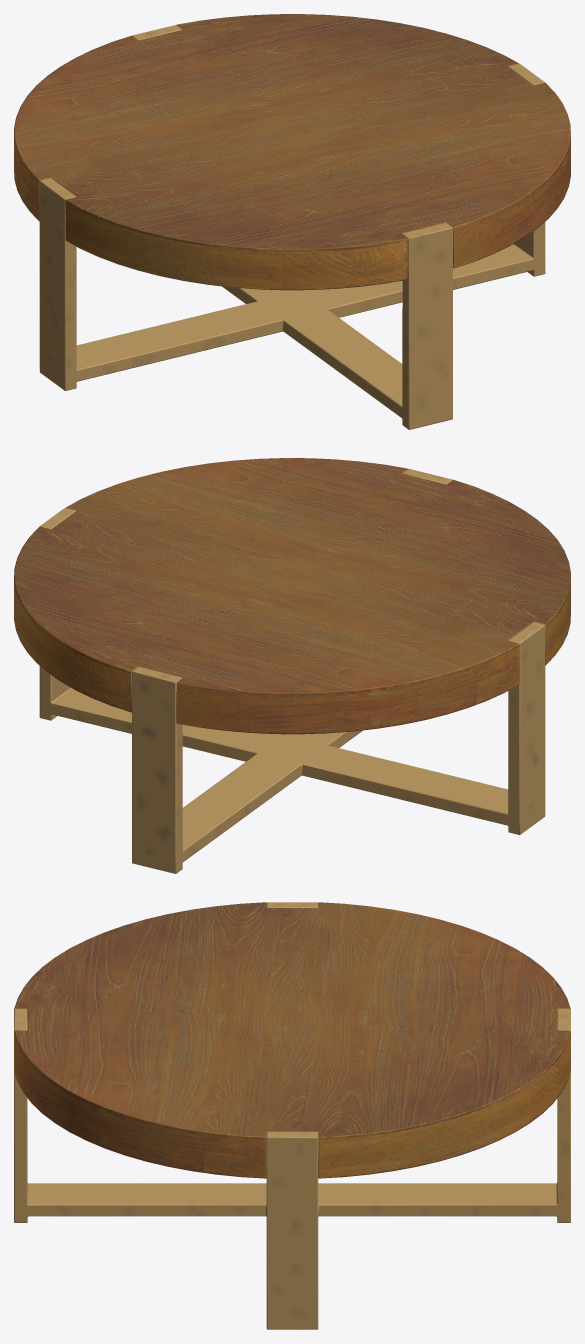
The picture shows the model from 3 angles, top to bottom: view 1: azimuth 30°, elevation 25°; view 2: azimuth 150°, elevation 25°; view 3: azimuth 270°, elevation 25°; orthographic projection.
Parts seen in each view (by area): view 1: B07QFB1TLZ; view 2: B07QFB1TLZ; view 3: B07QFB1TLZ.
Boxes of the visible parts, x1,y1,x2,y2 form: B07QFB1TLZ: [14, 14, 570, 429]; B07QFB1TLZ: [14, 458, 570, 873]; B07QFB1TLZ: [14, 902, 570, 1329].
Bounding box in the file's own units: 1.1 × 0.42 × 1.1.
Materials: 1 (1 with a texture image).
